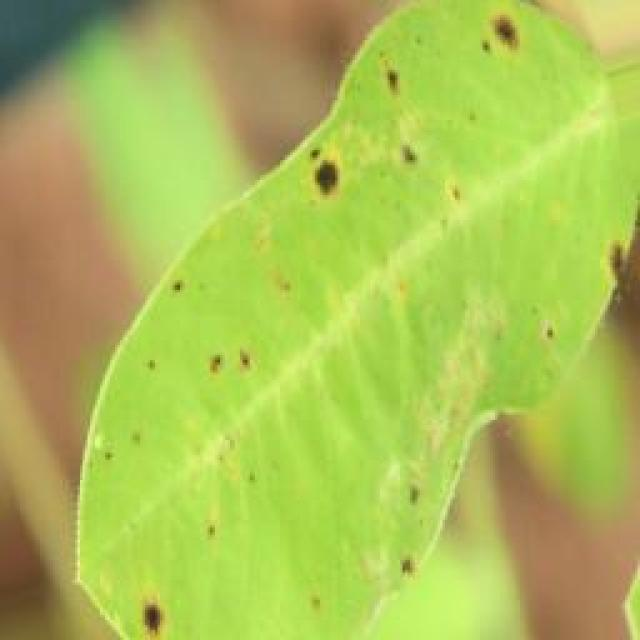Yellowish: (82, 21, 579, 620)
